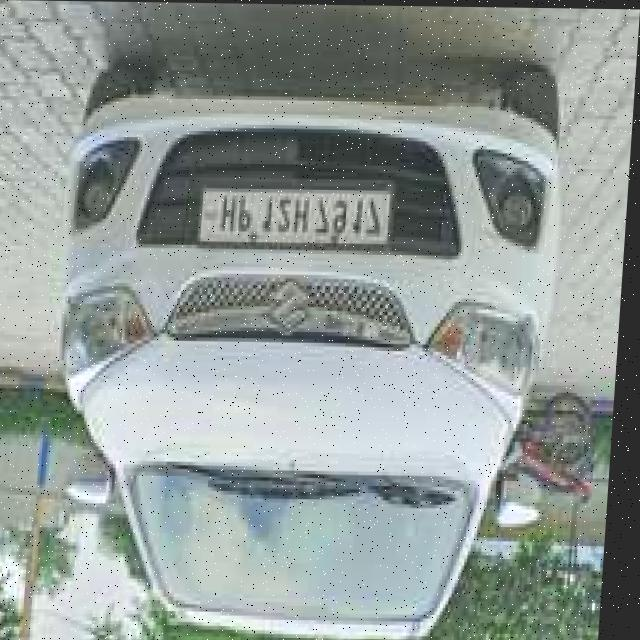plate: (196, 176, 400, 248)
